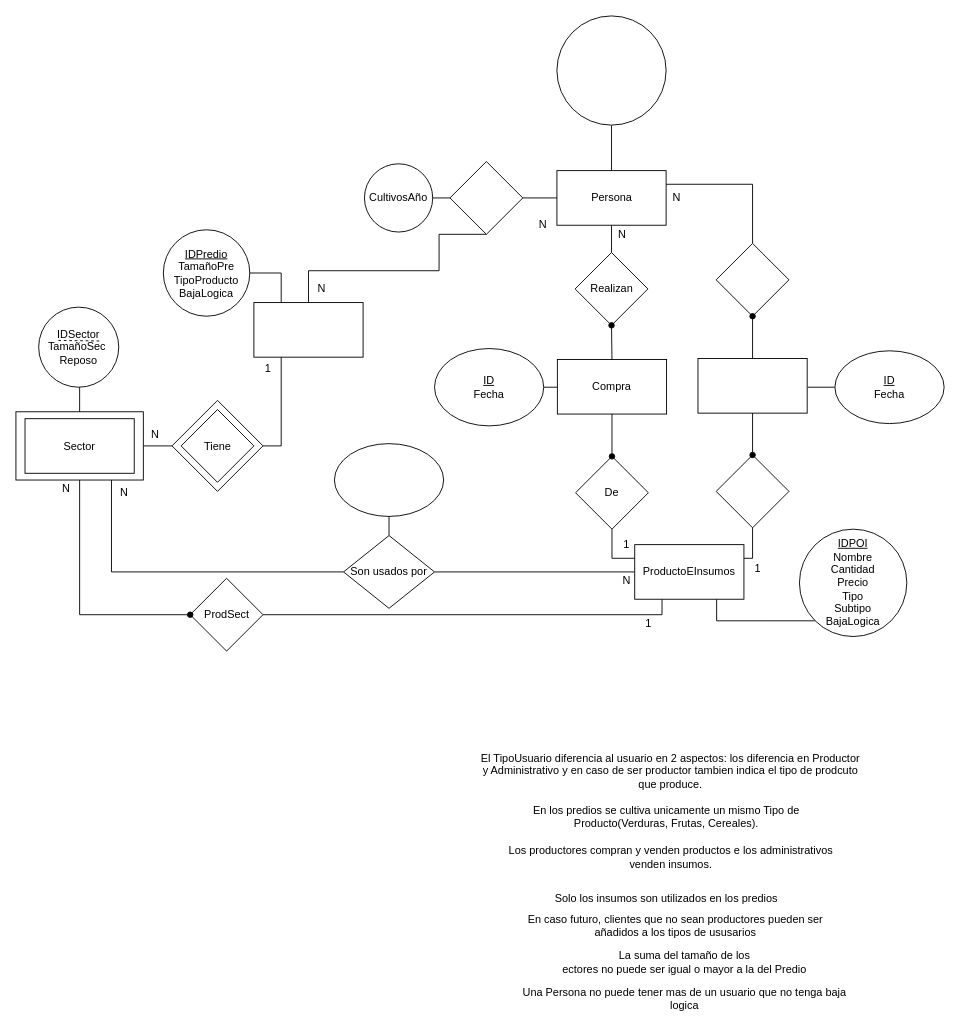
The diagram is 960 pixels wide and 1027 high, and some of its shapes have lost their labels. Each missing label, with the centre of its shape:
"CantidadUsada" belongs at [389,479].
"Cedula Contraseña Nombre Correo Tel TipoP BajaLogica" belongs at [611,70].
"De2" belongs at [752,491].
"Gestiona" belongs at [486,197].
"Predios" belongs at [308,329].
"Realizan2" belongs at [752,279].
"Venta" belongs at [752,385].
